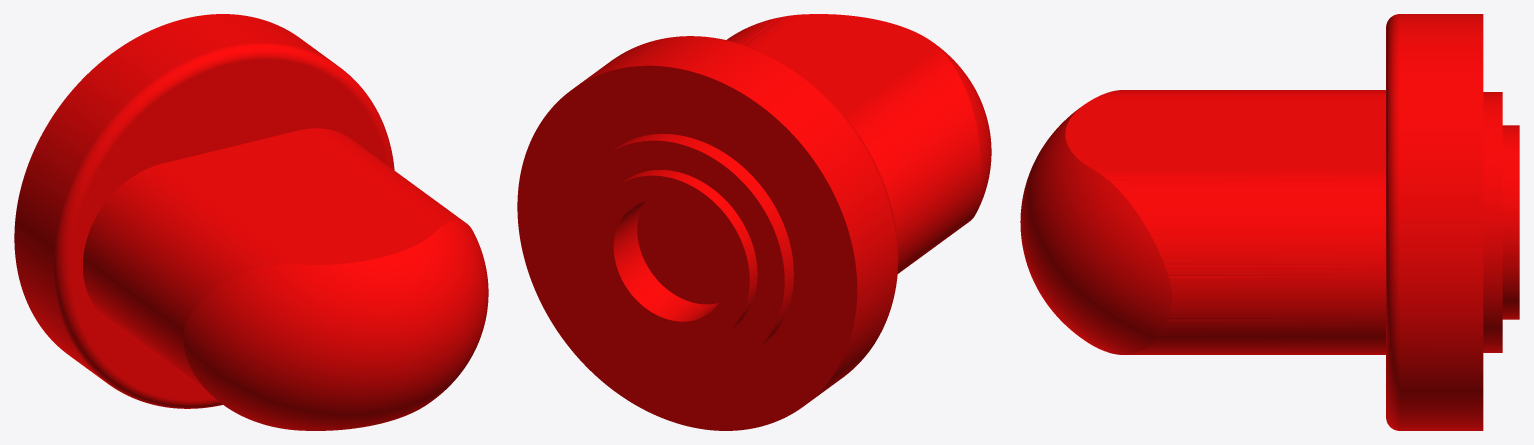
3 renders of one model, left to right at view 1: azimuth 30°, elevation 25°; view 2: azimuth 150°, elevation 25°; view 3: azimuth 270°, elevation 25°, orthographic. The views are drawn at different scales.
Visible parts, largest first — view 1: link1.glb; view 2: link1.glb; view 3: link1.glb.
Boxes of the visible parts, left/top/right/bottom form: link1.glb: left=14, top=14, right=488, bottom=430; link1.glb: left=517, top=14, right=991, bottom=430; link1.glb: left=1020, top=14, right=1519, bottom=430.
Bounding box in the file's own units: 150 × 150 × 179.
